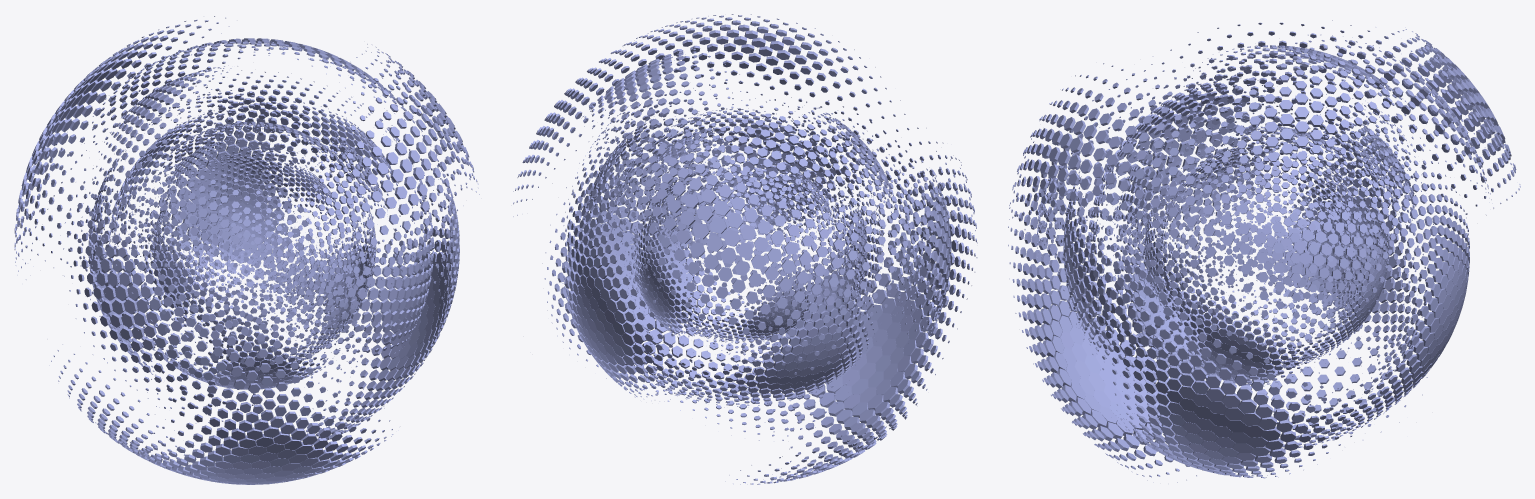
File: geometry_texture_effect_spheres.glb
3 renders of one model, left to right at view 1: azimuth 30°, elevation 25°; view 2: azimuth 150°, elevation 25°; view 3: azimuth 270°, elevation 25°, orthographic. The views are drawn at different scales.
Visible parts, largest first — view 1: Plane; view 2: Plane; view 3: Plane.
Boxes of the visible parts, x1,y1,x2,y2 form: Plane: (14, 16, 479, 484); Plane: (513, 14, 977, 484); Plane: (1008, 20, 1520, 482).
Size of the model in its own units: 1.99 by 1.9 by 1.97.
